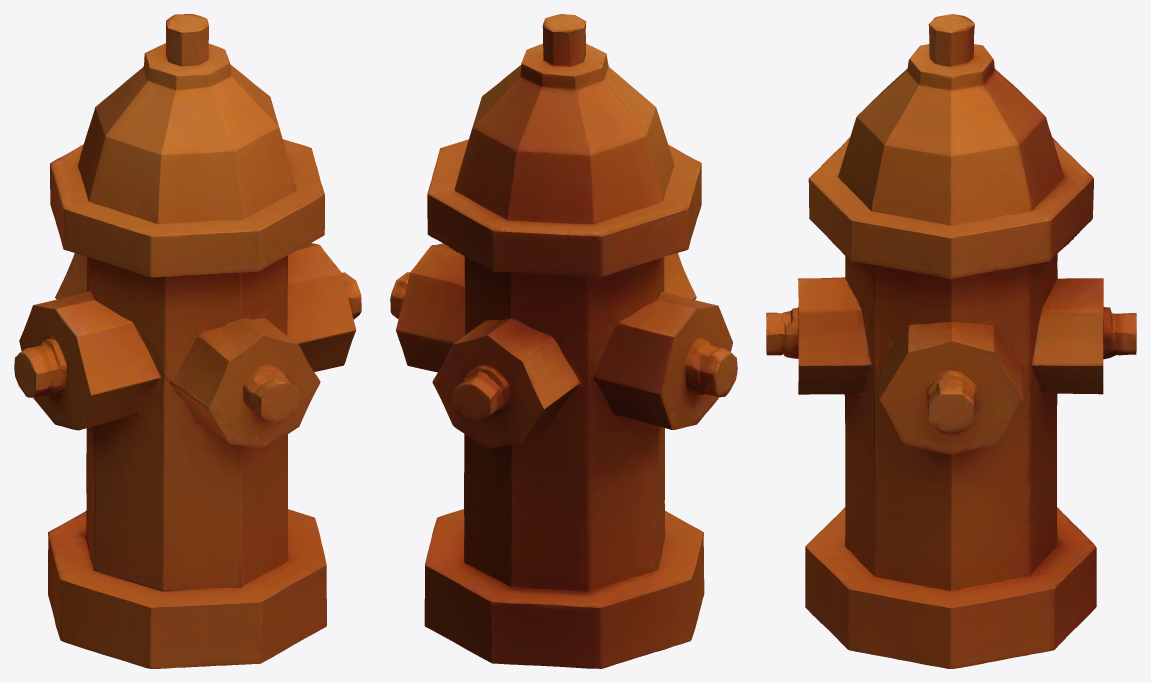
File: prop_hydrant.glb
The picture shows the model from 3 angles, left to right: view 1: azimuth 30°, elevation 25°; view 2: azimuth 150°, elevation 25°; view 3: azimuth 270°, elevation 25°; orthographic projection.
Visible parts, largest first — view 1: groundshift; view 2: groundshift; view 3: groundshift.
Part boxes in pixels (x1,y1,x2,y2): groundshift: (14, 14, 361, 668); groundshift: (390, 14, 737, 668); groundshift: (766, 14, 1136, 668).
Size of the model in its own units: 0.4927 by 0.85 by 0.4883.
Materials: 1 (1 with a texture image).
